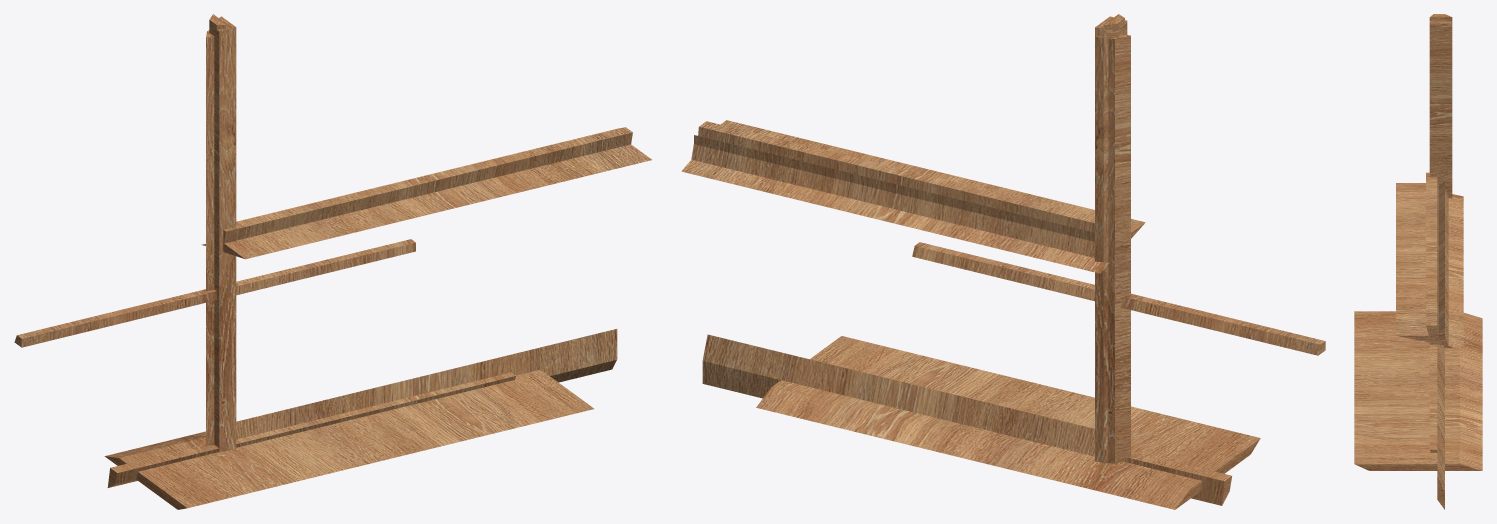
The model's file is 49088_deepcad.glb.
3 renders of one model, left to right at view 1: azimuth 30°, elevation 25°; view 2: azimuth 150°, elevation 25°; view 3: azimuth 270°, elevation 25°, orthographic. The views are drawn at different scales.
Parts seen in each view (by area): view 1: test_cmd_49088_pred; view 2: test_cmd_49088_pred; view 3: test_cmd_49088_pred.
Part boxes in pixels (x1=…): test_cmd_49088_pred: x1=14, y1=14, x2=651, y2=509; test_cmd_49088_pred: x1=681, y1=14, x2=1325, y2=509; test_cmd_49088_pred: x1=1354, y1=14, x2=1482, y2=509.
Size of the model in its own units: 1 by 0.7063 by 0.2378.
1 material, 1 textured.
